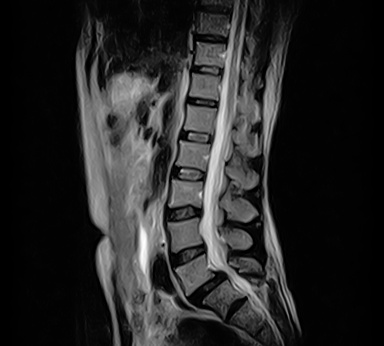L1,v1: (176, 106, 219, 131)
L1-L2,v1: (174, 124, 217, 149)
L2,v2: (172, 140, 215, 165)
L2-L3,v1: (170, 161, 213, 186)
L3,v2: (166, 180, 209, 205)
L3-L4,v5: (165, 201, 208, 226)
L4,v2: (164, 223, 207, 248)
L4-L5,v1: (167, 244, 210, 269)
L5,v2: (176, 262, 219, 287)
L5-S1,v2: (188, 276, 231, 301)
T12-L1,v1: (181, 88, 224, 113)
